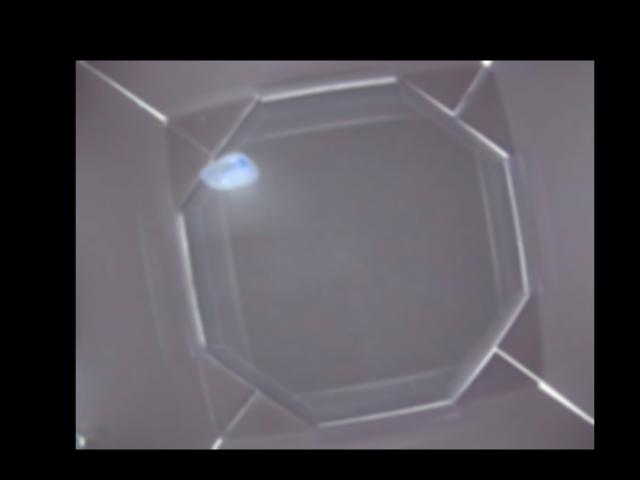Pebble: (198, 151, 261, 190)
